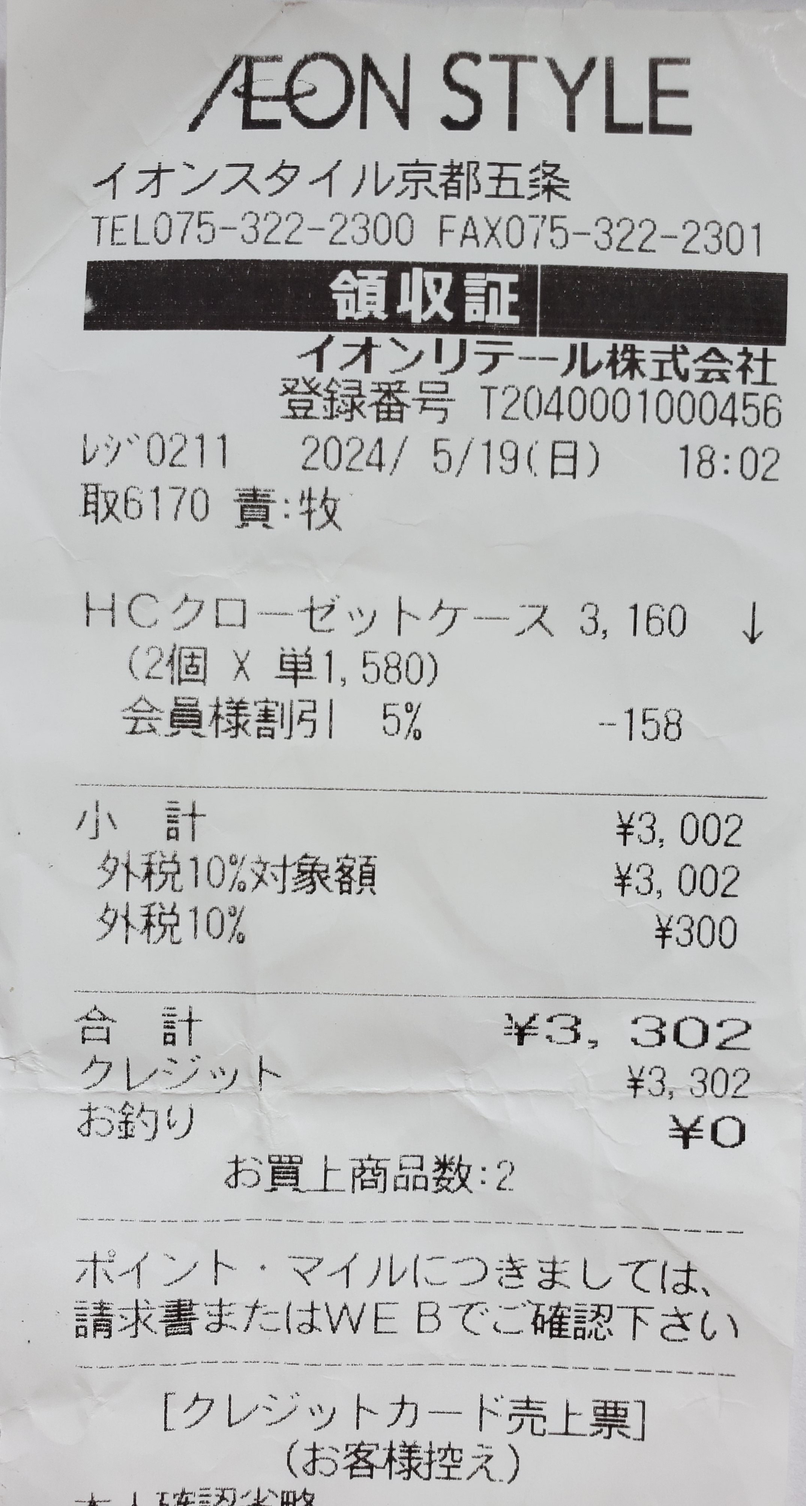Date: (289, 423, 527, 482)
Shopname: (177, 30, 724, 158)
Telnum: (148, 202, 424, 257)
Totalpay: (73, 1006, 757, 1059)
